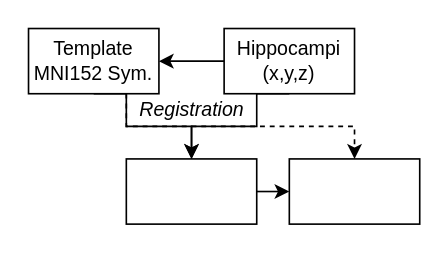
Some shapes in this 448 by 253 pixel diagram are drawn without their labels. Here are the shapes that lost their labels. From the top down, the centre of each, then its label:
At pixel 191 190: "Native MRI".
At pixel 354 190: "Hippocampi (x',y',z')".
